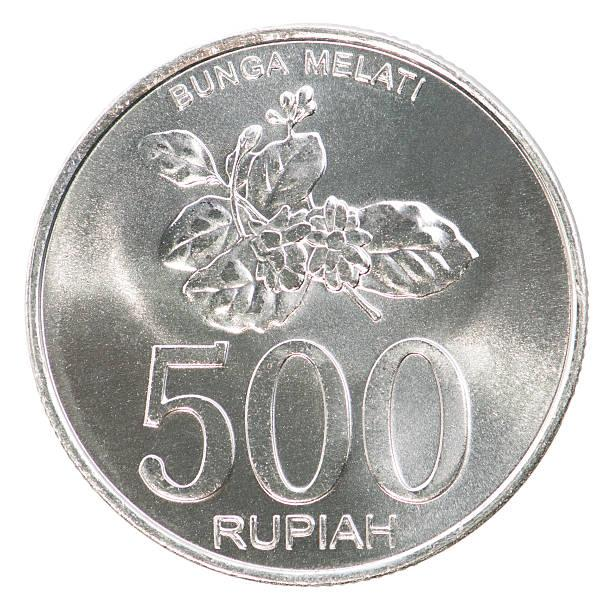coin_500_e2003: (26, 26, 589, 591)
